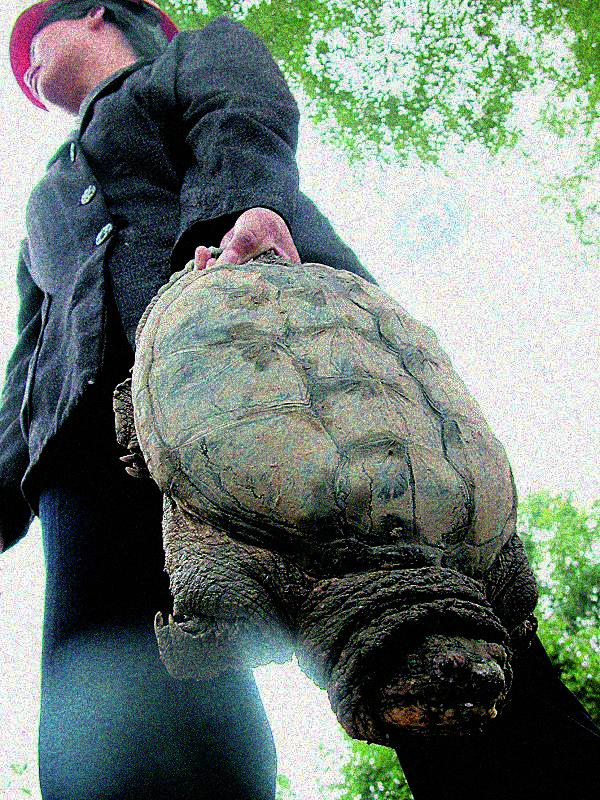helmet: (6, 1, 186, 117)
